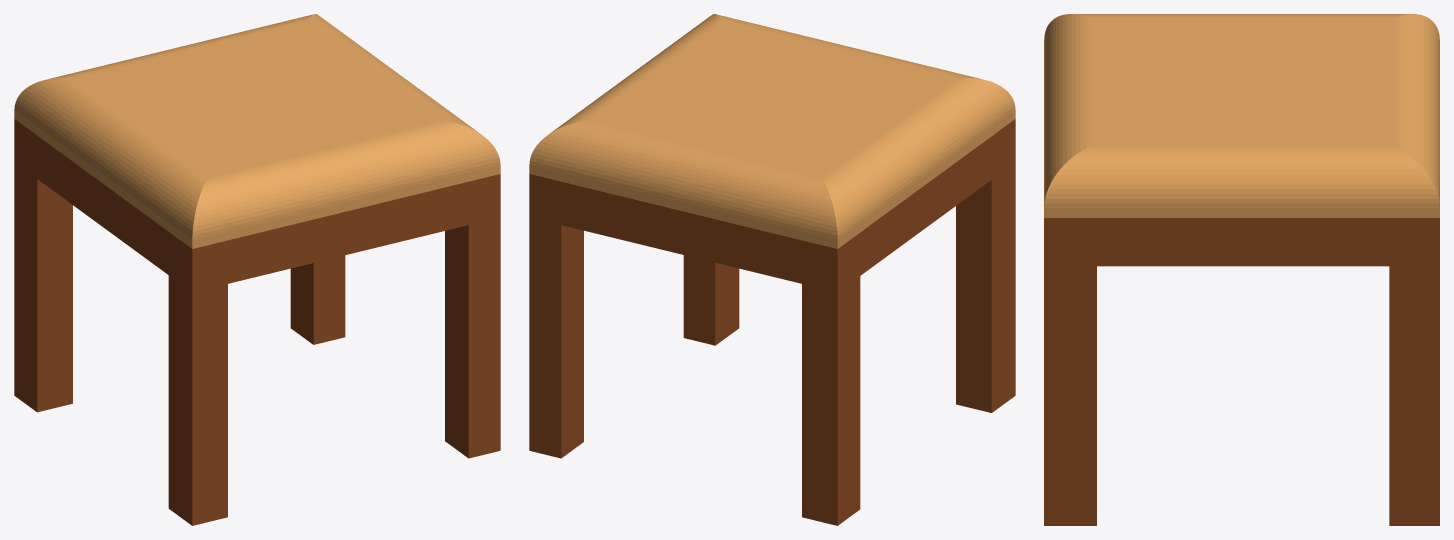
File: BrownChair.fbx
The picture shows the model from 3 angles, left to right: view 1: azimuth 30°, elevation 25°; view 2: azimuth 150°, elevation 25°; view 3: azimuth 270°, elevation 25°; orthographic projection. The views are drawn at different scales.
Parts seen in each view (by area): view 1: Chair; view 2: Chair; view 3: Chair.
Part boxes in pixels (x1,y1,x2,y2): Chair: (14,14,500,525); Chair: (529,14,1015,525); Chair: (1044,14,1439,525).
Bounding box in the file's own units: 117 × 117 × 117.
